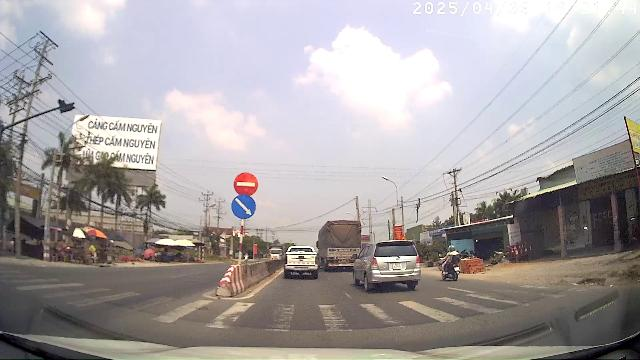102-cam-di-nguoc-chieu: (234, 172, 258, 194)
302a-huong-phai-di-vong-chuong-ngai-vat-1: (232, 195, 256, 219)
